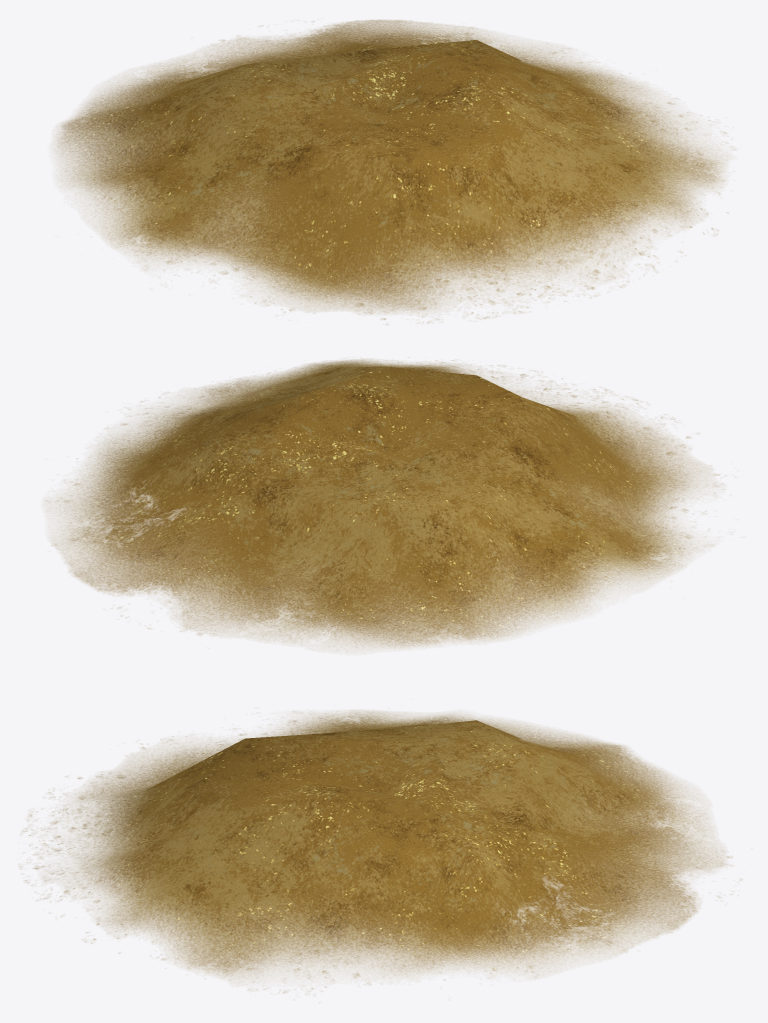
3 views of the same model, one above another, from view 1: azimuth 30°, elevation 25°; view 2: azimuth 150°, elevation 25°; view 3: azimuth 270°, elevation 25° (orthographic).
Parts seen in each view (by area): view 1: Object_2; view 2: Object_2; view 3: Object_2.
Boxes of the visible parts, <box> form: Object_2: <box>56,20,734,324</box>; Object_2: <box>46,359,724,648</box>; Object_2: <box>22,710,740,992</box>.
Size of the model in its own units: 58.7 by 8.08 by 58.7.
Materials: 1 (1 with a texture image).
